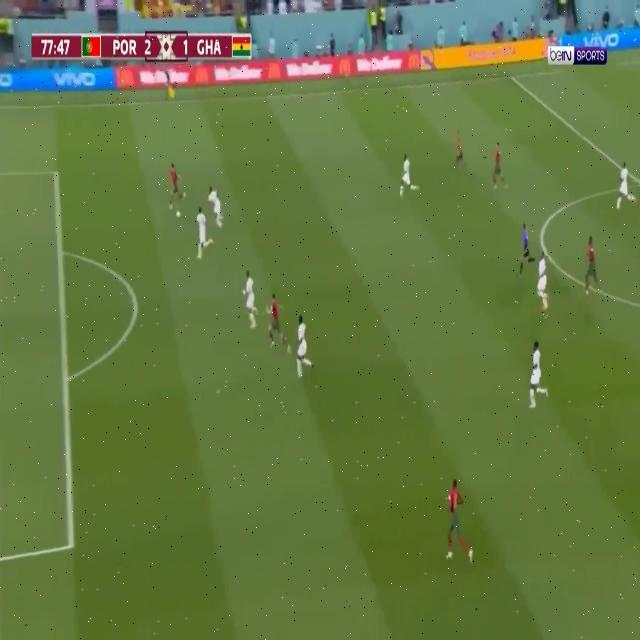Ball: (176, 210, 183, 220)
Referee: (518, 220, 536, 280), (162, 63, 178, 100)
TEAM 1: (443, 479, 474, 572), (265, 290, 293, 360), (583, 231, 601, 297), (168, 160, 187, 207), (491, 137, 506, 193), (455, 126, 466, 170)
TEAM 2: (528, 340, 550, 411), (298, 310, 316, 384), (616, 157, 637, 213), (242, 266, 259, 333), (398, 151, 421, 199), (196, 204, 212, 260), (538, 249, 551, 311), (210, 184, 226, 227)
